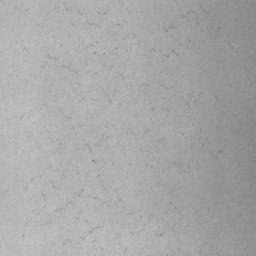Silk spot: (61, 65, 77, 74), (163, 25, 176, 32)
